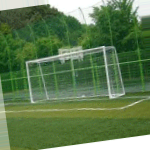goals: (26, 44, 127, 104)
